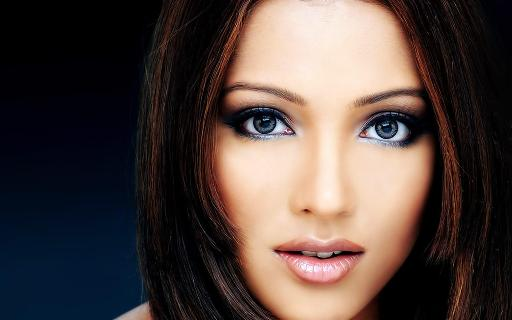left_eye: (356, 115, 423, 145)
left_lip_corner: (352, 246, 369, 260)
right_eye: (232, 110, 300, 140)
right_lip_corner: (269, 244, 290, 259)
